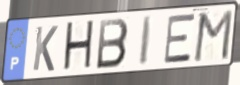B: (95, 17, 130, 71)
E: (162, 12, 196, 65)
H: (61, 18, 96, 75)
I: (138, 15, 155, 68)
K: (31, 24, 60, 73)
M: (192, 8, 235, 64)
